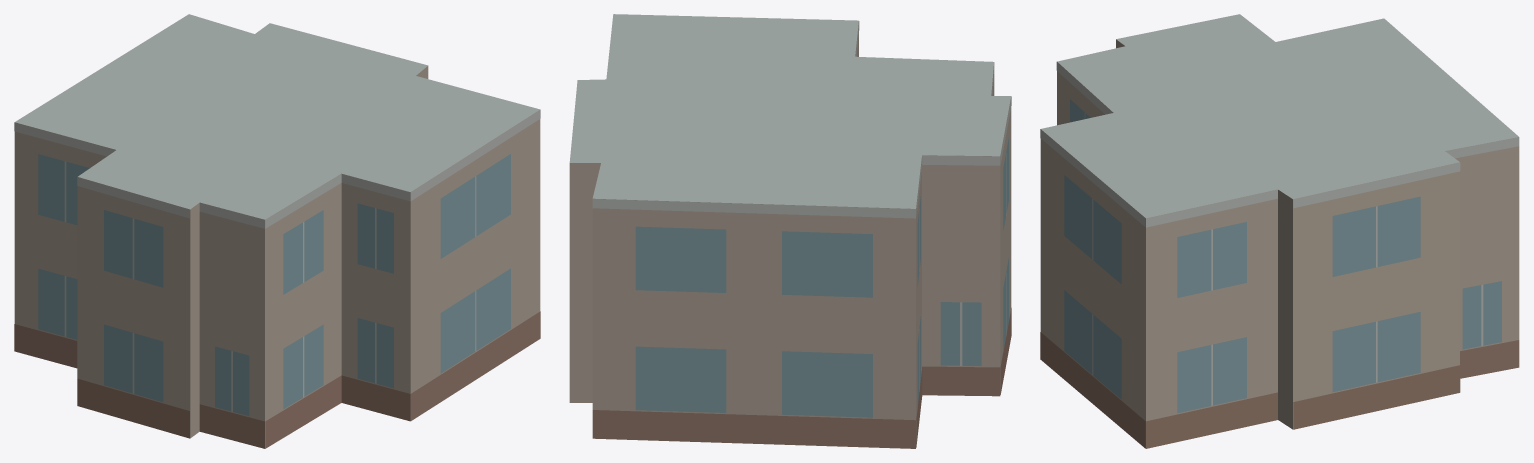
File: survey-upis-32740042.glb
3 views of the same model, side by side, from view 1: azimuth 30°, elevation 25°; view 2: azimuth 150°, elevation 25°; view 3: azimuth 270°, elevation 25° (orthographic). The views are drawn at different scales.
Visible parts, largest first — view 1: survey-upis-32740042.tmp; view 2: survey-upis-32740042.tmp; view 3: survey-upis-32740042.tmp.
Part boxes in pixels (box(x1,y1,x2,y2)): survey-upis-32740042.tmp: box(14, 14, 540, 448); survey-upis-32740042.tmp: box(569, 14, 1011, 448); survey-upis-32740042.tmp: box(1040, 14, 1519, 448).
Bounding box in the file's own units: 11.61 × 6.1 × 11.5.
